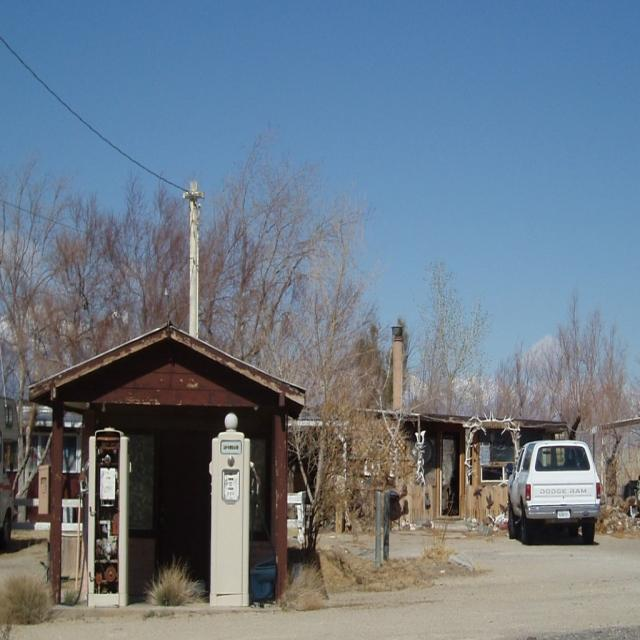other: (502, 438, 602, 546)
